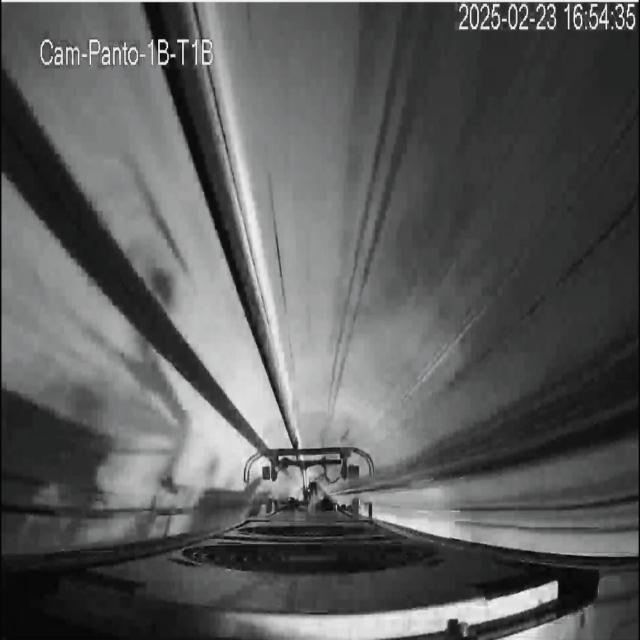Camera Stamp: (36, 30, 222, 71)
Date Stamp: (458, 3, 636, 33)
No - Spark: (244, 445, 375, 516)
